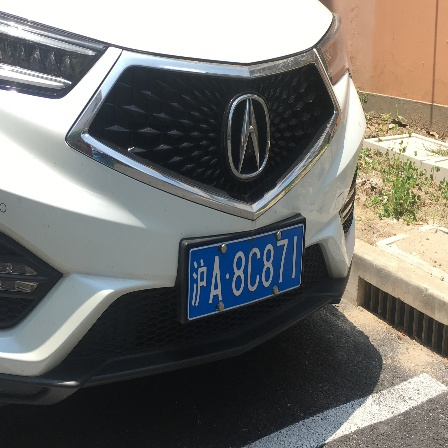plate: (182, 233, 313, 309)
